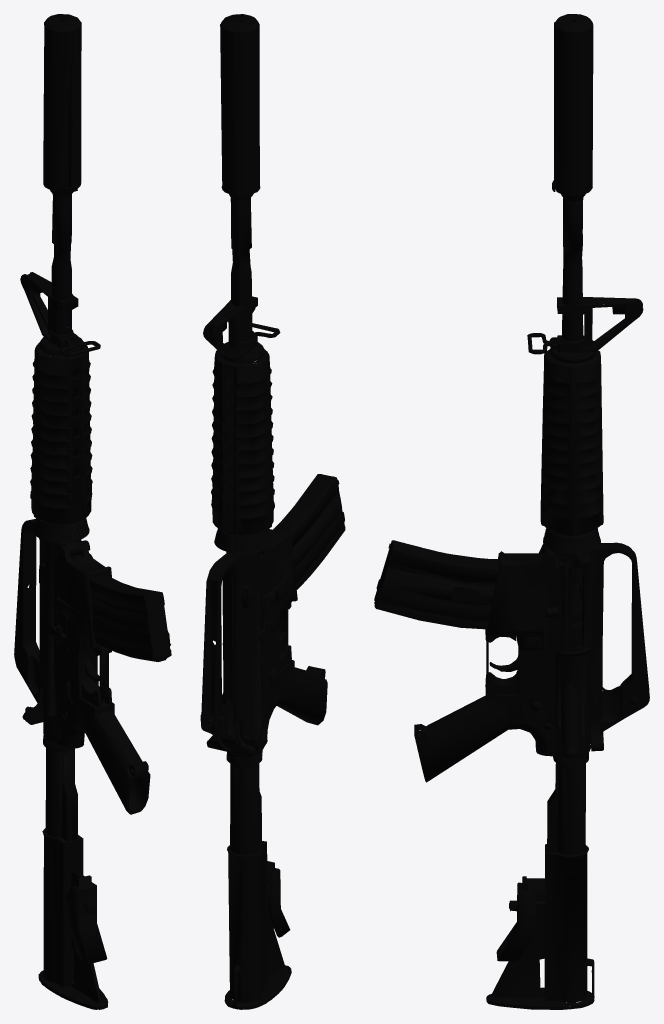
3 renders of one model, left to right at view 1: azimuth 30°, elevation 25°; view 2: azimuth 150°, elevation 25°; view 3: azimuth 270°, elevation 25°, orthographic. The views are drawn at different scales.
Parts seen in each view (by area): view 1: asset_M4A1S.001; view 2: asset_M4A1S.001; view 3: asset_M4A1S.001.
Boxes of the visible parts, <box> form: asset_M4A1S.001: <box>14,14,171,1009</box>; asset_M4A1S.001: <box>200,14,345,1009</box>; asset_M4A1S.001: <box>374,14,649,1009</box>.
Bounding box in the file's own units: 0.029 × 0.444 × 0.113.
